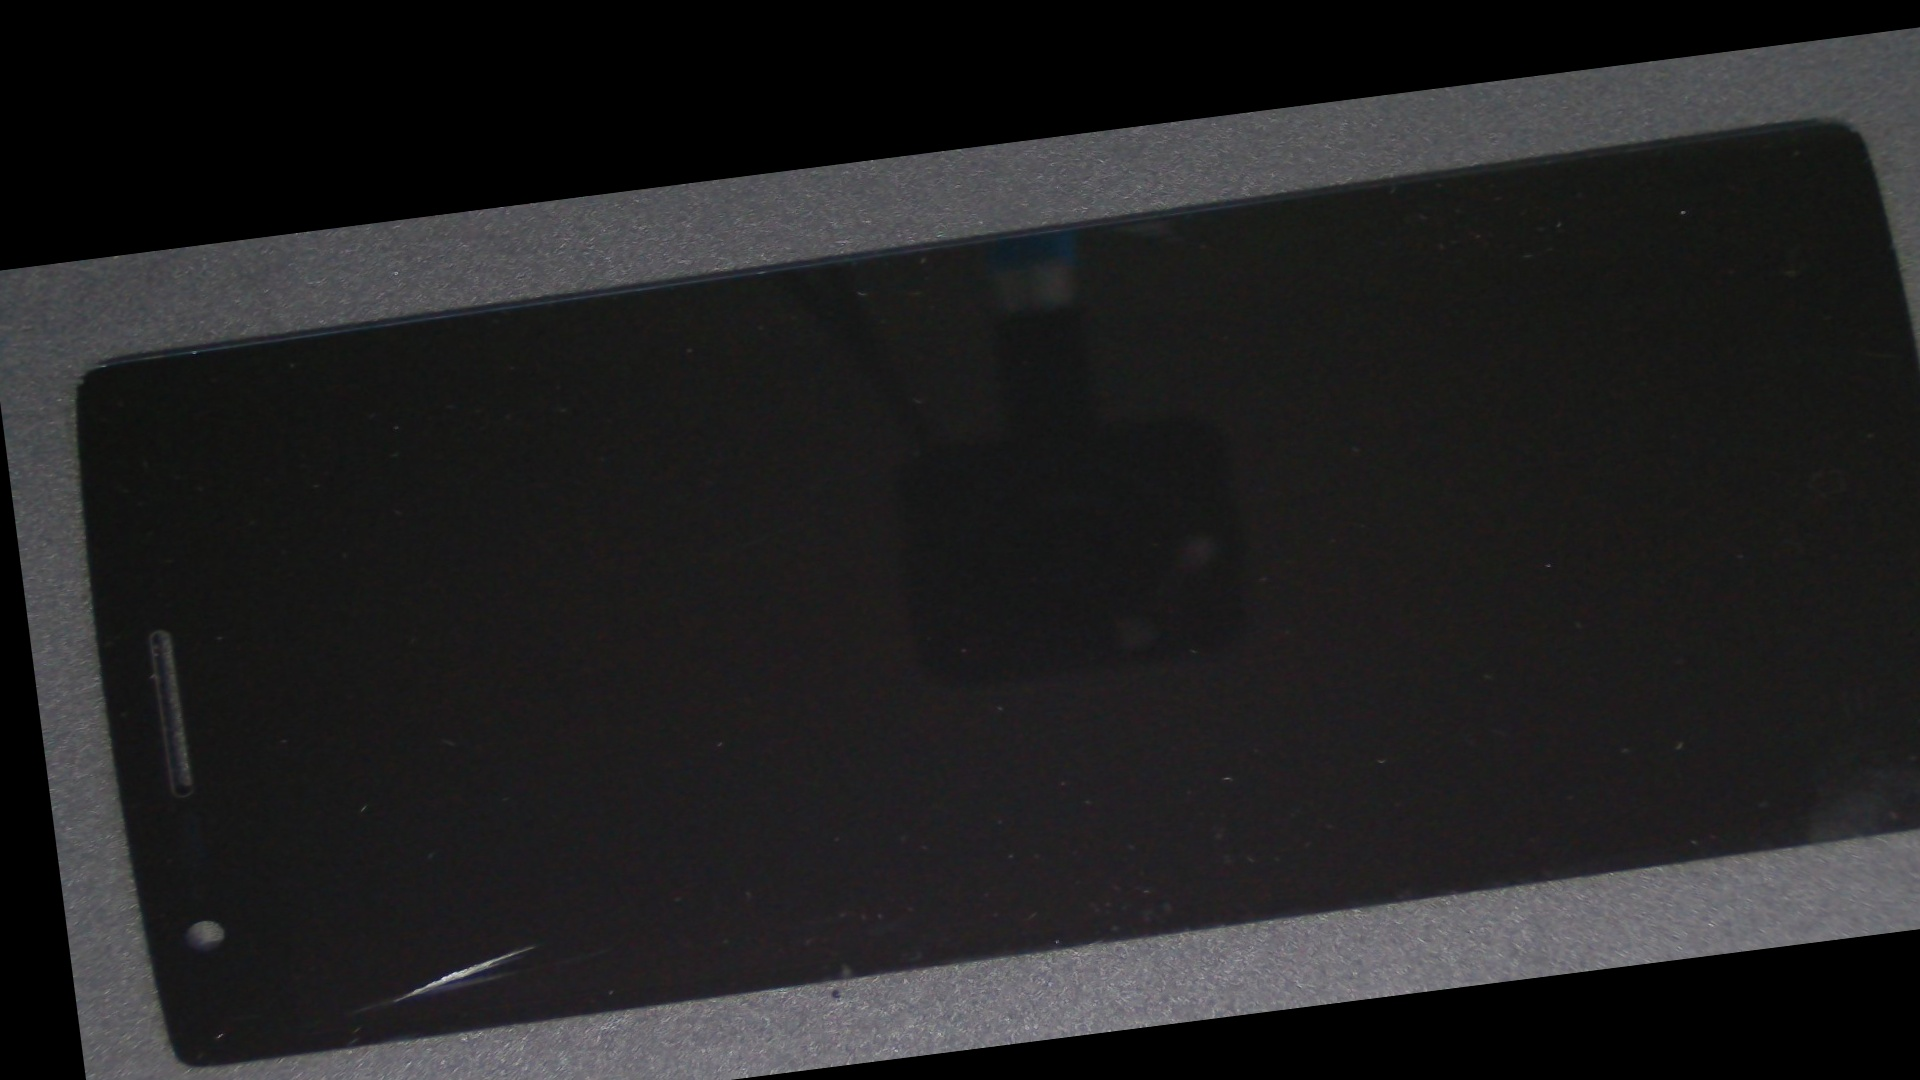oil: (259, 550, 782, 1080)
